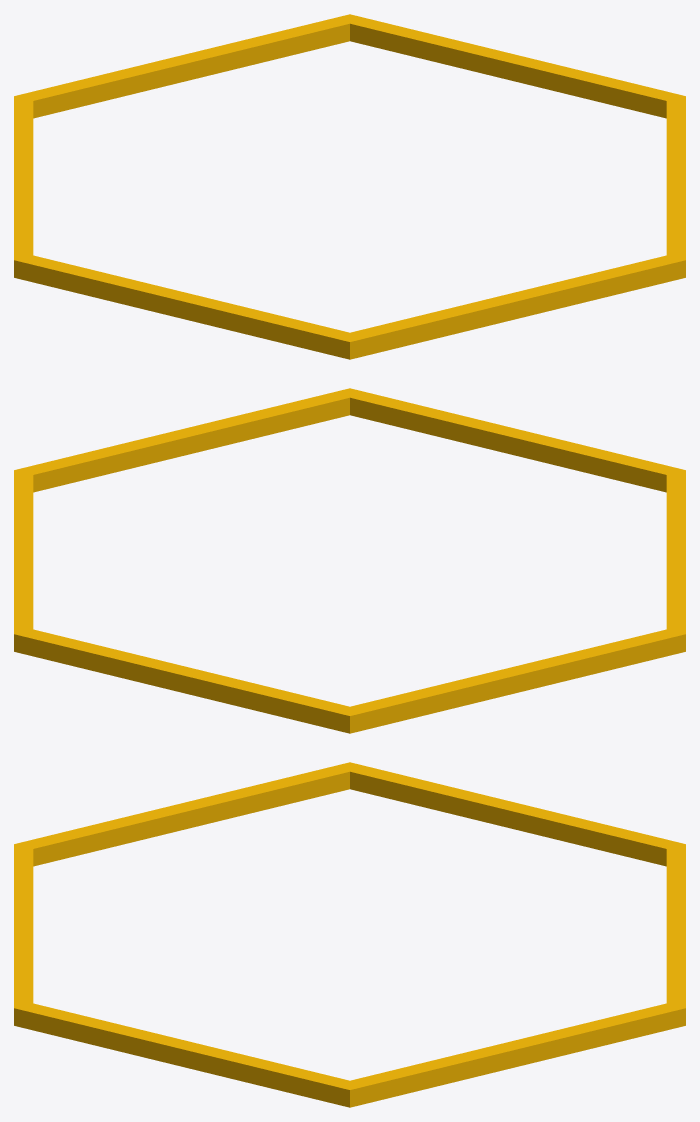
Rendered from Land_2.fbx.
3 views of the same model, one above another, from view 1: azimuth 30°, elevation 25°; view 2: azimuth 150°, elevation 25°; view 3: azimuth 270°, elevation 25° (orthographic).
Visible parts, largest first — view 1: 개체_1; view 2: 개체_1; view 3: 개체_1.
Part boxes in pixels (box(x1,y1,x2,y2)): 개체_1: box(14, 14, 685, 359); 개체_1: box(14, 388, 685, 733); 개체_1: box(14, 762, 685, 1107).
Size of the model in its own units: 200 by 173 by 5.
